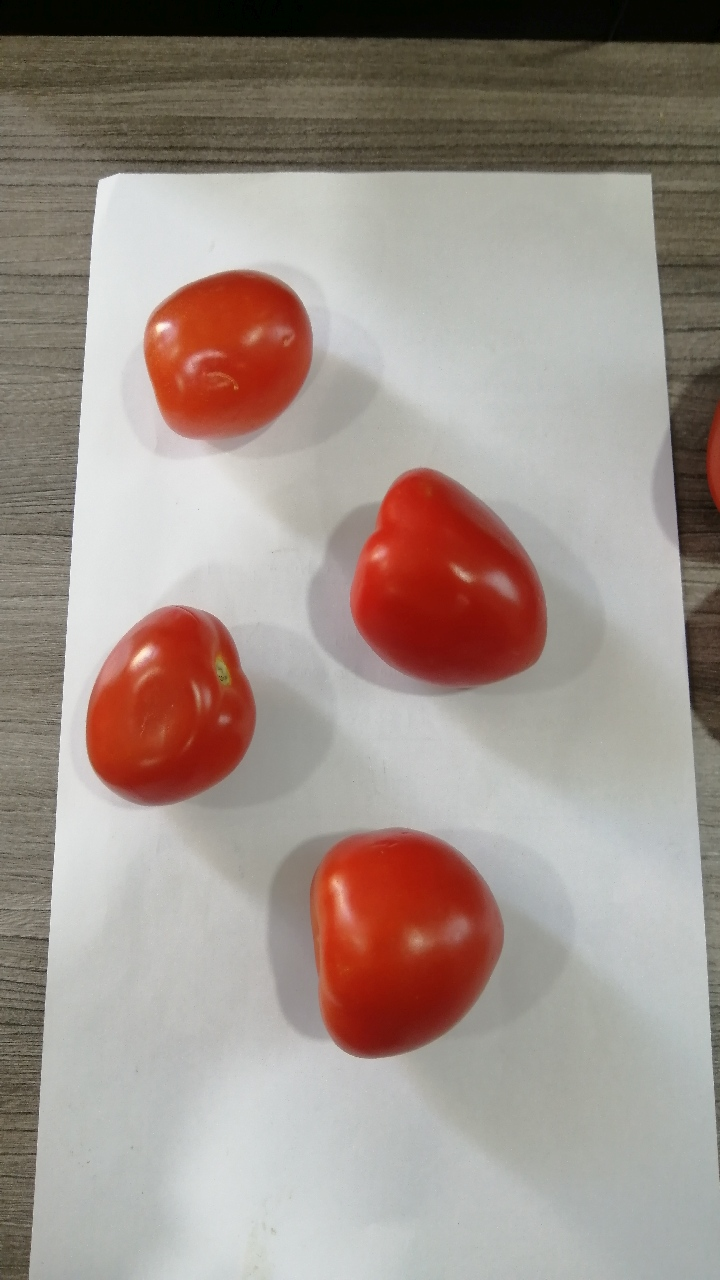tomateRojo: (326, 445, 568, 720), (289, 809, 524, 1085), (128, 246, 331, 471), (74, 589, 272, 812)
